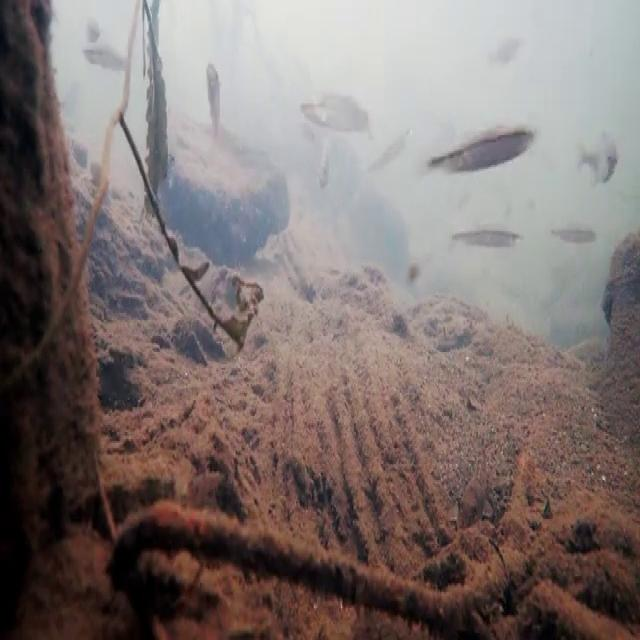Cakil Baligi: (430, 106, 538, 182), (449, 223, 525, 256), (203, 57, 227, 136)
